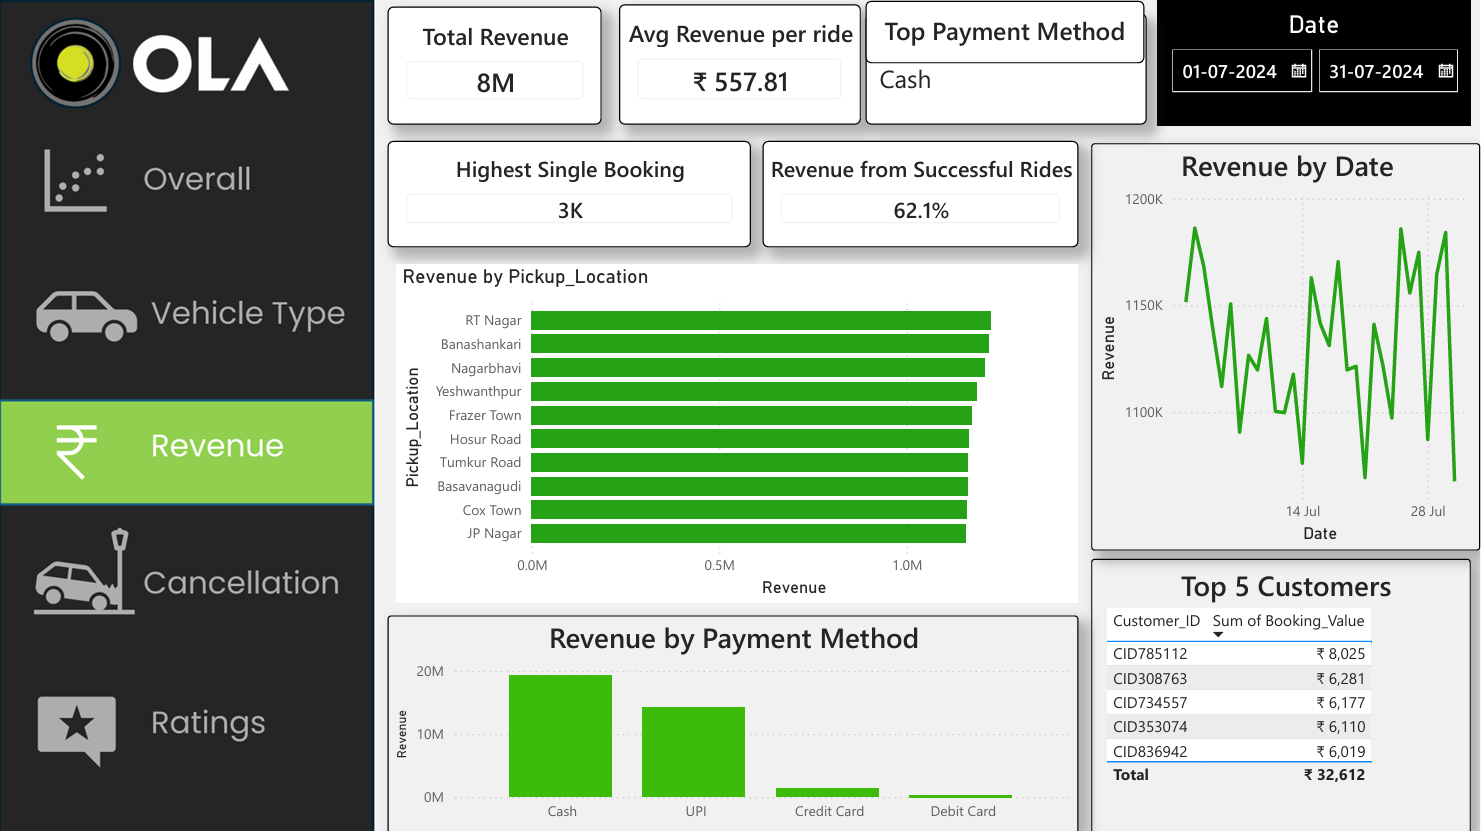

Layout of this report page (visuals, bound fields, positions):
{"tool":"powerbi","page":{"name":"Revenue","canvas":[1280,720],"ordinal":2},"visuals":[{"type":"actionButton","box":[0,120.8,325.2,91.9],"z":0},{"type":"actionButton","box":[0,227.8,325.2,91.9],"z":1000},{"type":"actionButton","box":[0,462.4,325.2,91.9],"z":2000},{"type":"actionButton","box":[0,587.3,325.2,91.9],"z":3000},{"type":"clusteredColumnChart","title":"Revenue by Payment Method","fields":{"Category":["July.Payment_Method"],"Y":["July.Revenue"]},"box":[334.8,531,596.9,189.4],"z":4000},{"type":"lineChart","title":"Revenue by Payment Method","fields":{"Category":["July.Date"],"Y":["July.Revenue"]},"box":[942.7,123.5,337.6,351.3],"z":5000},{"type":"slicer","title":"Date","fields":{"Values":["July.Date"]},"box":[1000.3,0,270.3,108.4],"z":6000},{"type":"tableEx","title":"Top 5 Customers","fields":{"Values":["July.Customer_ID","Sum(July.Booking_Value)"]},"box":[942.7,481.6,328,238.8],"z":7000},{"type":"cardVisual","title":"Total Revenue ","fields":{"Data":["July.total revenue"]},"box":[334.8,5.5,185.2,101.5],"z":8000},{"type":"cardVisual","title":"Avg Revenue per ride","fields":{"Data":["July.avg booking value"]},"box":[535.2,2.7,208.6,104.3],"z":9000},{"type":"tableEx","fields":{"Values":["July.Payment_Method"]},"box":[747.9,11,242.9,96.1],"z":10000},{"type":"cardVisual","title":"Highest Single Booking","fields":{"Data":["July.Highest Booking"]},"box":[334.8,120.8,314.2,91.9],"z":11000},{"type":"cardVisual","title":"Revenue from Successful Rides","fields":{"Data":["July.Rev from successful ride%"]},"box":[658.7,120.8,273.1,91.9],"z":12000},{"type":"textbox","box":[747.9,0,241.5,53.5],"z":13000},{"type":"barChart","fields":{"Y":["July.Revenue"],"Category":["July.Pickup_Location"]},"box":[343.1,227.8,588.7,292.3],"z":14000}]}

Visuals, with their boxes in screenshot pixels (x1, y1, x2, y2), scaled from the page's 1280x720 canvas onto the 1482x831 screenshot:
actionButton: (x1=0, y1=139, x2=377, y2=245)
actionButton: (x1=0, y1=263, x2=377, y2=369)
actionButton: (x1=0, y1=534, x2=377, y2=640)
actionButton: (x1=0, y1=678, x2=377, y2=784)
"Revenue by Payment Method" clusteredColumnChart: (x1=388, y1=613, x2=1079, y2=830)
"Revenue by Payment Method" lineChart: (x1=1091, y1=143, x2=1481, y2=548)
"Date" slicer: (x1=1158, y1=0, x2=1471, y2=125)
"Top 5 Customers" tableEx: (x1=1091, y1=556, x2=1471, y2=830)
"Total Revenue " cardVisual: (x1=388, y1=6, x2=602, y2=123)
"Avg Revenue per ride" cardVisual: (x1=620, y1=3, x2=861, y2=123)
tableEx - July.Payment_Method: (x1=866, y1=13, x2=1147, y2=124)
"Highest Single Booking" cardVisual: (x1=388, y1=139, x2=751, y2=245)
"Revenue from Successful Rides" cardVisual: (x1=763, y1=139, x2=1079, y2=245)
textbox: (x1=866, y1=0, x2=1146, y2=62)
barChart - July.Revenue x July.Pickup_Location: (x1=397, y1=263, x2=1079, y2=600)
